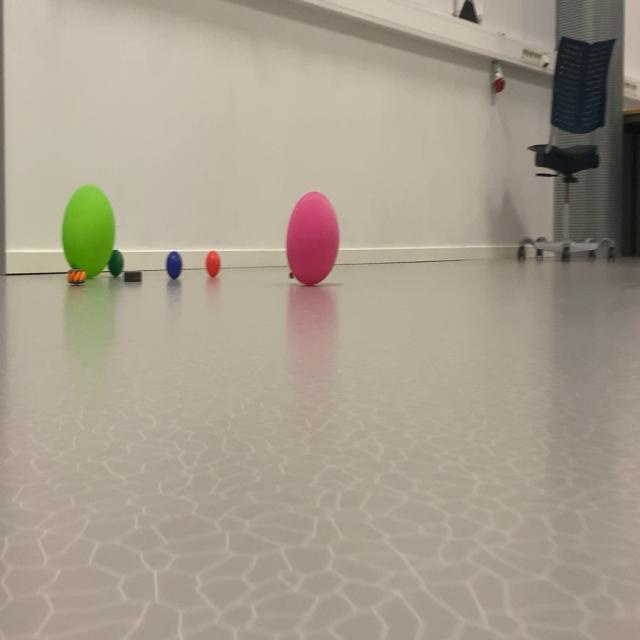7: (201, 209, 229, 314)
green ball: (152, 207, 188, 316)
red ball: (154, 240, 225, 288), (108, 220, 124, 305)
